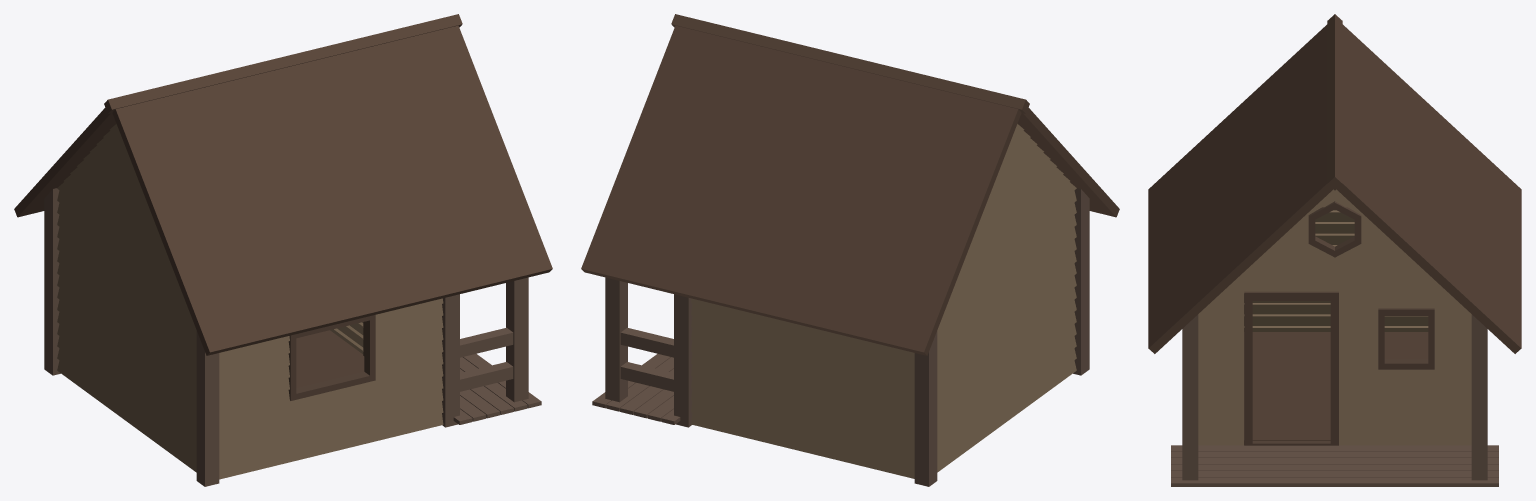
The model's file is Hütte.fbx.
The picture shows the model from 3 angles, left to right: view 1: azimuth 30°, elevation 25°; view 2: azimuth 150°, elevation 25°; view 3: azimuth 270°, elevation 25°; orthographic projection. The views are drawn at different scales.
Parts seen in each view (by area): view 1: Dach, Wand_hinten, Wand_links, Pfosten_Haus, Pfosten_Terasse, Dachbalken, Boden_innen, Fenster_links, Boden_Terasse, Wand_vorne; view 2: Dach, Wand_hinten, Wand_rechts, Pfosten_Haus, Pfosten_Terasse, Dachbalken, Boden_Terasse; view 3: Dach, Wand_vorne, Boden_Terasse, Boden_innen, Pfosten_Terasse, Wand_hinten, Türrahmen_1, Dachbalken, Fensterrahmen_vorne_rechts, Kleines_Fenster_oben_1.
Boxes of the visible parts, x1,y1,x2,y2 form: Dach: (14, 25, 552, 355); Wand_hinten: (57, 124, 196, 472); Wand_links: (219, 298, 443, 479); Pfosten_Haus: (44, 188, 459, 486); Pfosten_Terasse: (460, 277, 528, 402); Dachbalken: (104, 14, 462, 113); Boden_innen: (296, 330, 364, 387); Fenster_links: (288, 315, 375, 400); Boden_Terasse: (453, 353, 541, 424); Wand_vorne: (330, 322, 363, 354); Dach: (581, 25, 1119, 355); Wand_hinten: (937, 124, 1076, 472); Wand_rechts: (691, 298, 914, 478); Pfosten_Haus: (674, 188, 1089, 486); Pfosten_Terasse: (605, 277, 673, 402); Dachbalken: (671, 14, 1029, 113); Boden_Terasse: (592, 353, 680, 424); Dach: (1148, 24, 1521, 353); Wand_vorne: (1198, 189, 1471, 445); Boden_Terasse: (1171, 445, 1498, 486); Boden_innen: (1244, 332, 1428, 444); Pfosten_Terasse: (1182, 314, 1487, 480); Wand_hinten: (1244, 209, 1428, 331); Türrahmen_1: (1244, 291, 1338, 445); Dachbalken: (1327, 14, 1342, 190); Fensterrahmen_vorne_rechts: (1378, 308, 1434, 369); Kleines_Fenster_oben_1: (1308, 201, 1361, 257).
Bounding box in the file's own units: 484 × 439 × 468.
